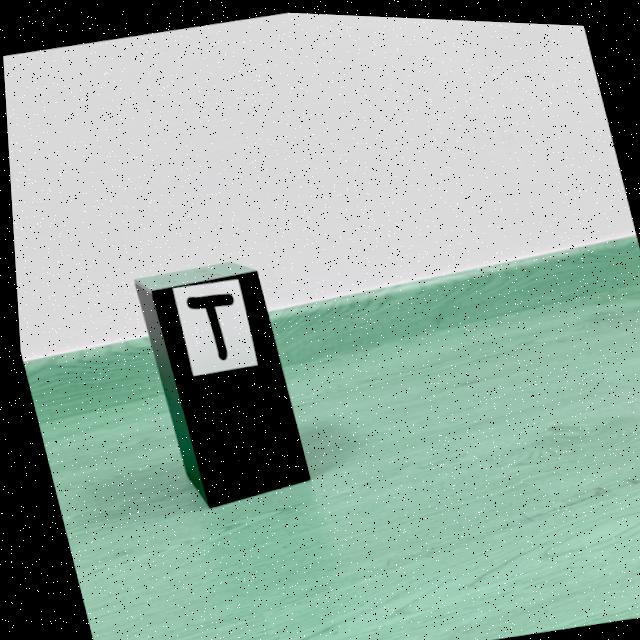T: (183, 291, 230, 359)
